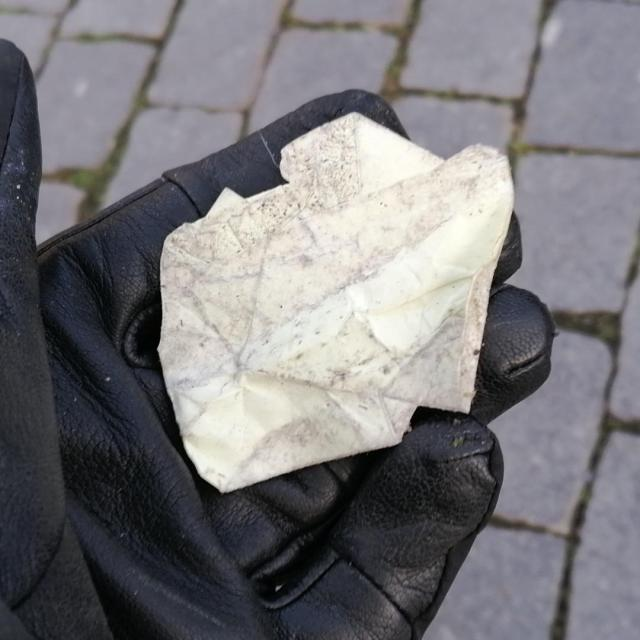Paper: (156, 110, 516, 497)
